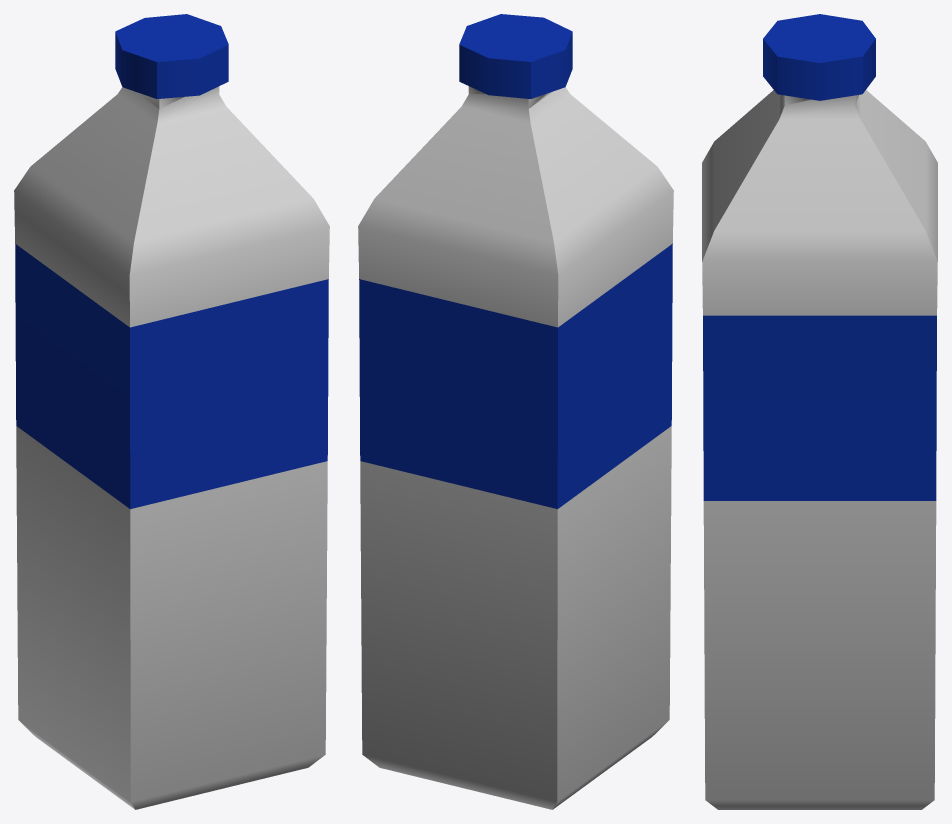
The model's file is waterbottle.FBX.
The picture shows the model from 3 angles, left to right: view 1: azimuth 30°, elevation 25°; view 2: azimuth 150°, elevation 25°; view 3: azimuth 270°, elevation 25°; orthographic projection.
Visible parts, largest first — view 1: Box001; view 2: Box001; view 3: Box001.
Boxes of the visible parts, bbox=[...] form: Box001: bbox=[14, 14, 329, 809]; Box001: bbox=[358, 14, 673, 809]; Box001: bbox=[702, 14, 937, 809].
Size of the model in its own units: 20 by 68.2 by 20.
